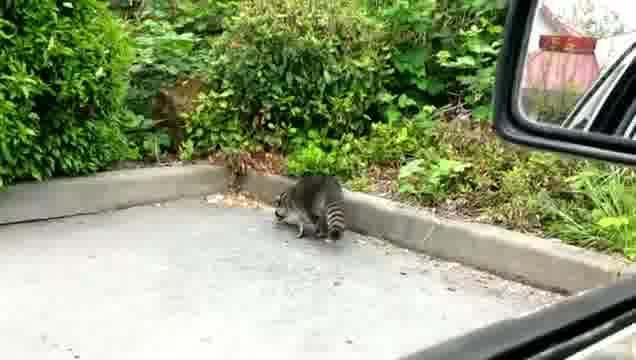raccoon: (272, 168, 348, 242)
